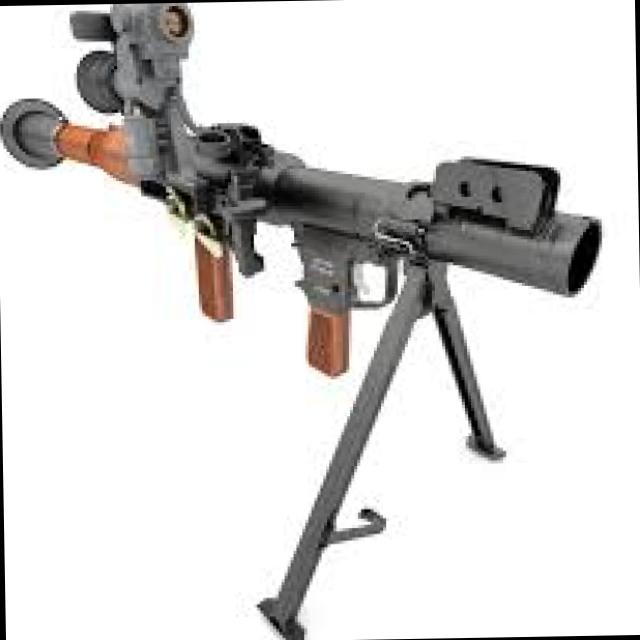Gun: (0, 0, 616, 421)
